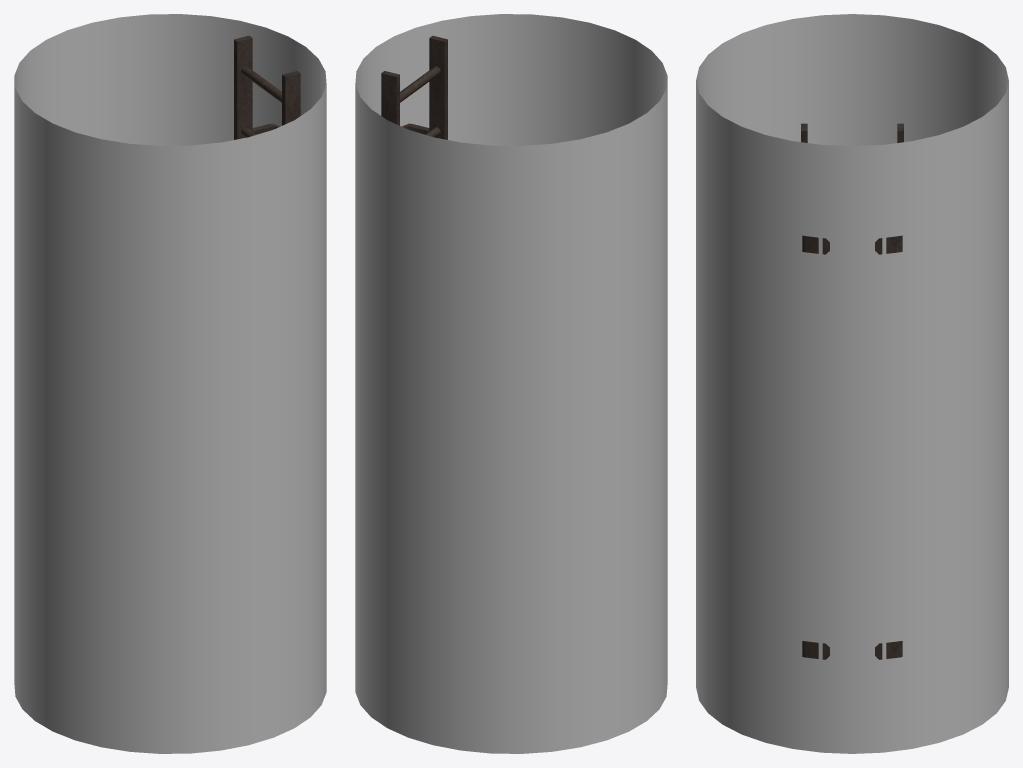
Rendered from manhole_shaft_middle_1.obj.
The picture shows the model from 3 angles, left to right: view 1: azimuth 30°, elevation 25°; view 2: azimuth 150°, elevation 25°; view 3: azimuth 270°, elevation 25°; orthographic projection.
Visible parts, largest first — view 1: manhole_shaft_middle_1, shaft_middle_ladder; view 2: manhole_shaft_middle_1, shaft_middle_ladder; view 3: manhole_shaft_middle_1, shaft_middle_ladder.
Part boxes in pixels (x1=…): manhole_shaft_middle_1: x1=14, y1=14, x2=326, y2=753; shaft_middle_ladder: x1=234, y1=35, x2=300, y2=139; manhole_shaft_middle_1: x1=355, y1=14, x2=667, y2=753; shaft_middle_ladder: x1=381, y1=35, x2=447, y2=139; manhole_shaft_middle_1: x1=696, y1=14, x2=1008, y2=753; shaft_middle_ladder: x1=801, y1=123, x2=903, y2=659.
Size of the model in its own units: 1.4 by 3 by 1.4.
